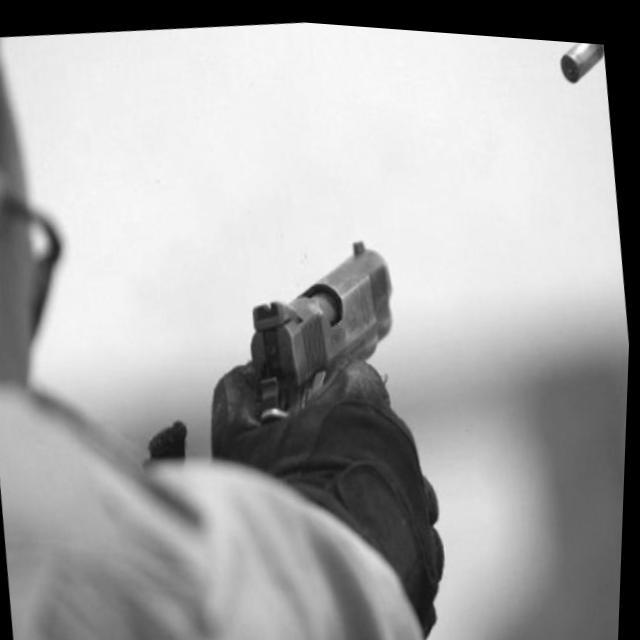weapon: (230, 217, 428, 438)
